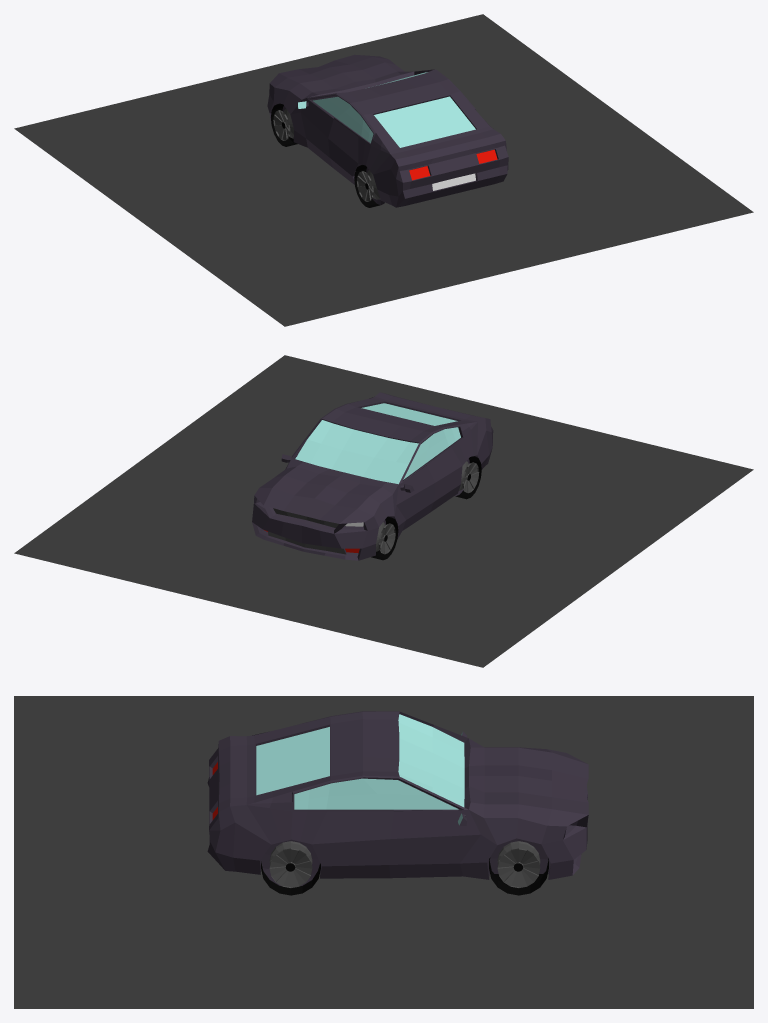
The model's file is lowpolycar.fbx.
3 renders of one model, top to bottom at view 1: azimuth 30°, elevation 25°; view 2: azimuth 150°, elevation 25°; view 3: azimuth 270°, elevation 25°, orthographic. The views are drawn at different scales.
Visible parts, largest first — view 1: Plane, Cube; view 2: Plane, Cube; view 3: Plane, Cube.
Boxes of the visible parts, x1,y1,x2,y2 form: Plane: (14,14,753,326); Cube: (267,54,508,207); Plane: (14,355,753,667); Cube: (252,392,493,560); Plane: (14,696,753,1008); Cube: (207,711,588,895).
Size of the model in its own units: 855 by 145 by 855.
